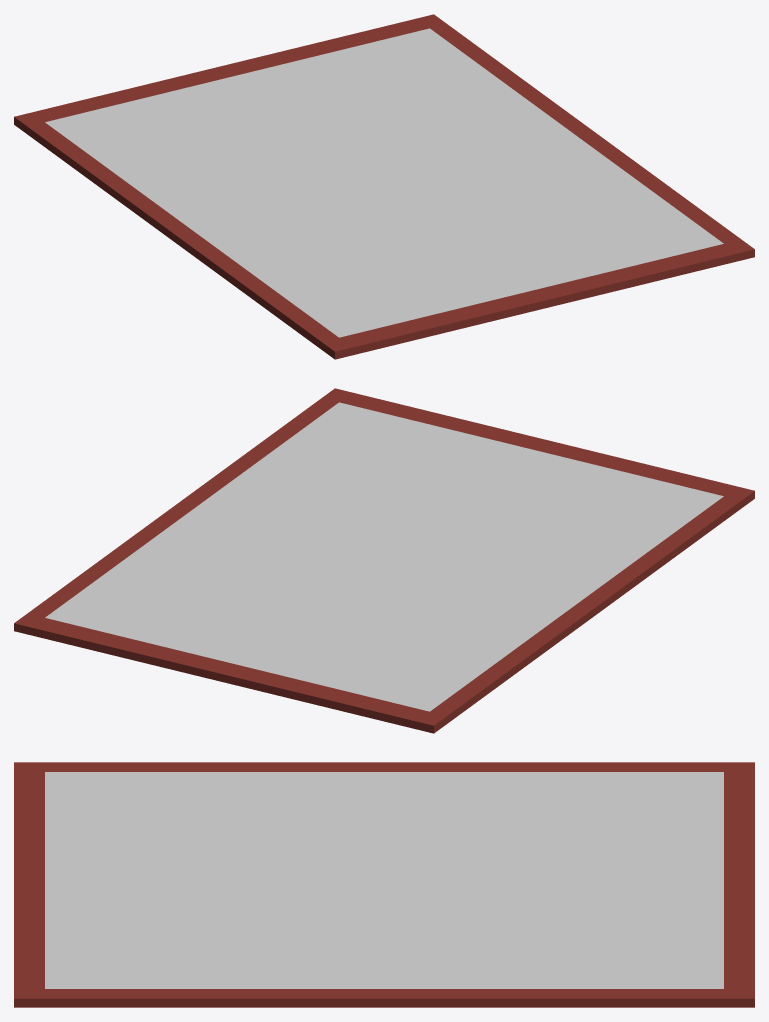
The model's file is picadoInsecto.fbx.
The picture shows the model from 3 angles, top to bottom: view 1: azimuth 30°, elevation 25°; view 2: azimuth 150°, elevation 25°; view 3: azimuth 270°, elevation 25°; orthographic projection. The views are drawn at different scales.
Visible parts, largest first — view 1: Plane; view 2: Plane; view 3: Plane.
Boxes of the visible parts, x1,y1,x2,y2 form: Plane: (14,14,754,359); Plane: (14,388,754,733); Plane: (14,762,754,1007).
Size of the model in its own units: 981 by 17.62 by 1298.
